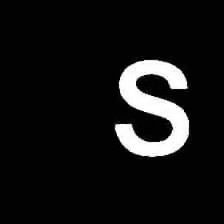LTR_S: (109, 54, 196, 160)
